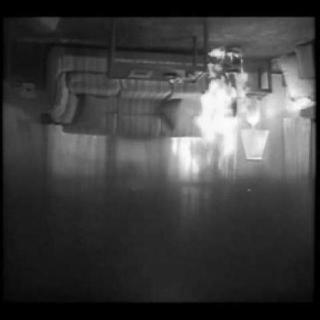Smoke: (7, 167, 309, 317)
